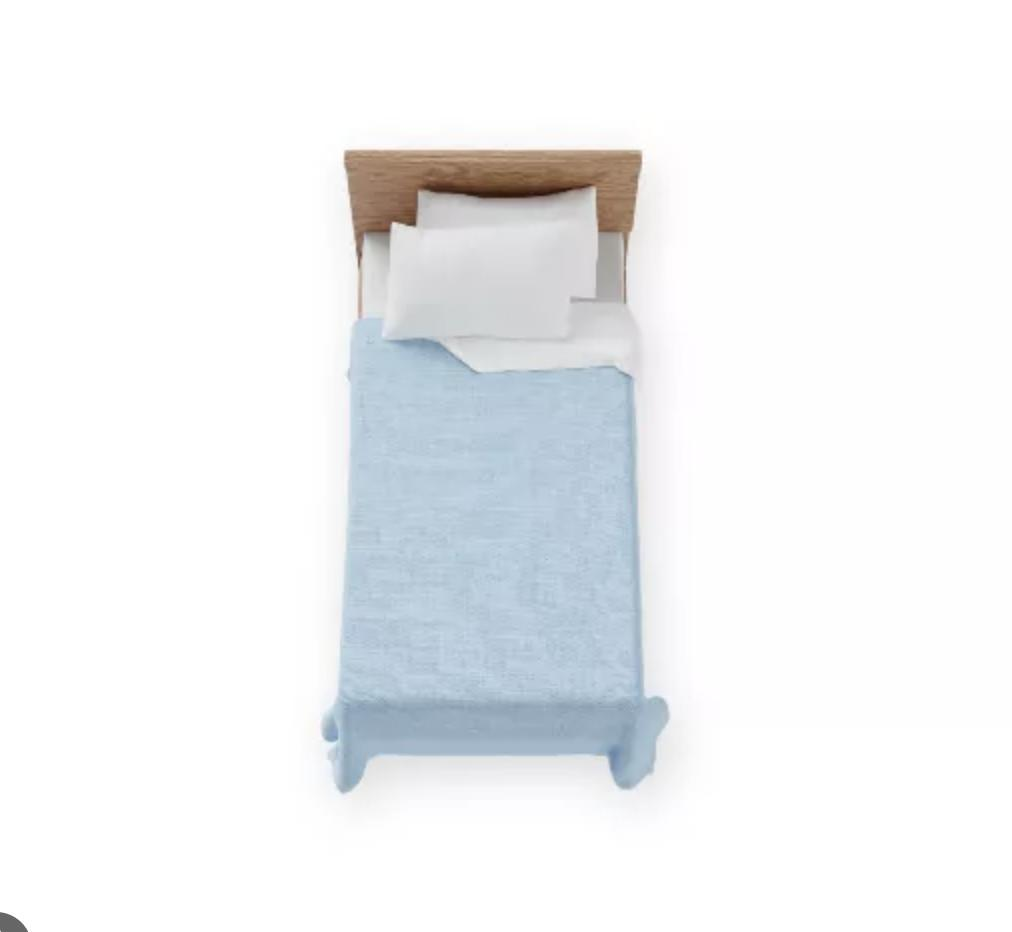Bed-Mattress: (324, 138, 674, 796)
